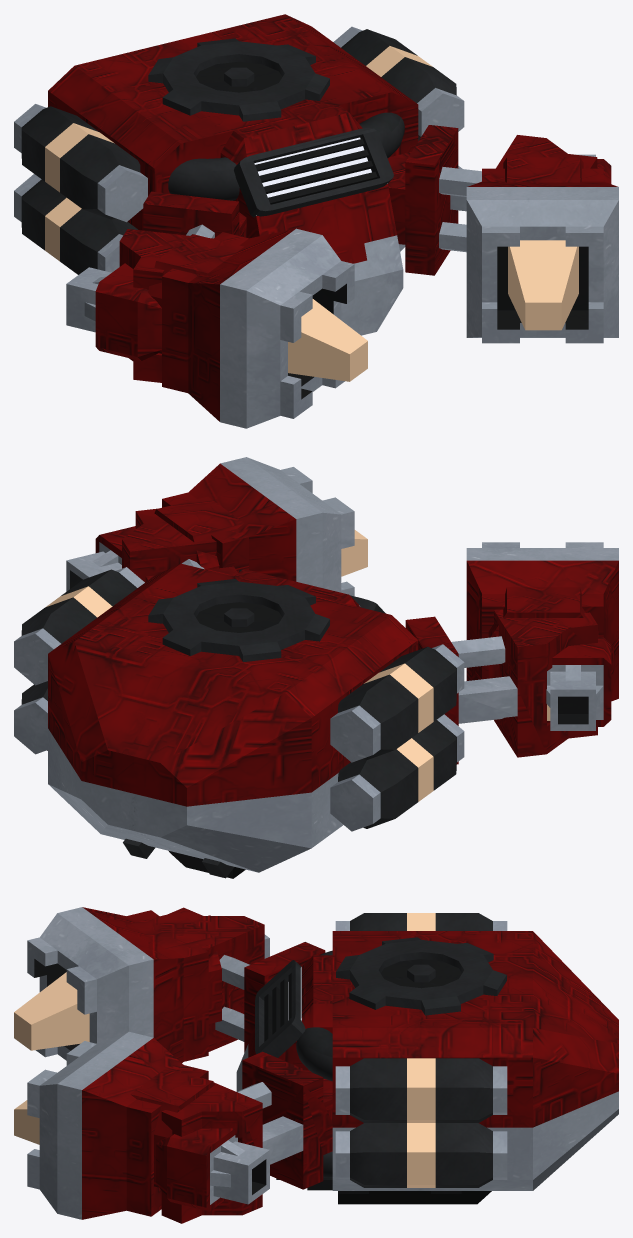
The model's file is Fabricator Body.fbx.
3 views of the same model, one above another, from view 1: azimuth 30°, elevation 25°; view 2: azimuth 150°, elevation 25°; view 3: azimuth 270°, elevation 25° (orthographic). The views are drawn at different scales.
Visible parts, largest first — view 1: mergedBlocks; view 2: mergedBlocks; view 3: mergedBlocks.
Part boxes in pixels (bbox=[...]): mergedBlocks: bbox=[14, 14, 618, 428]; mergedBlocks: bbox=[14, 457, 618, 878]; mergedBlocks: bbox=[14, 907, 618, 1223].
Size of the model in its own units: 5.02 by 2.15 by 5.28.
